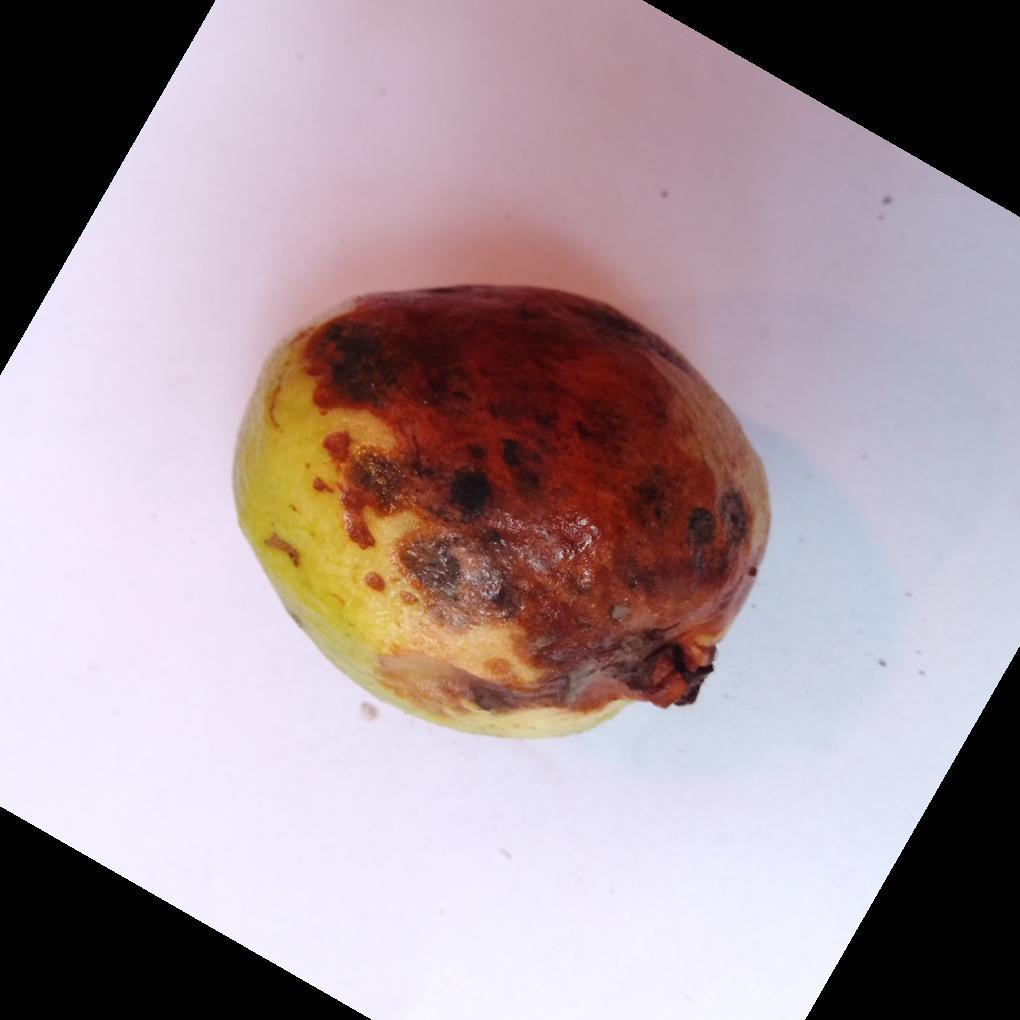FreshOrange: (230, 286, 772, 744)
